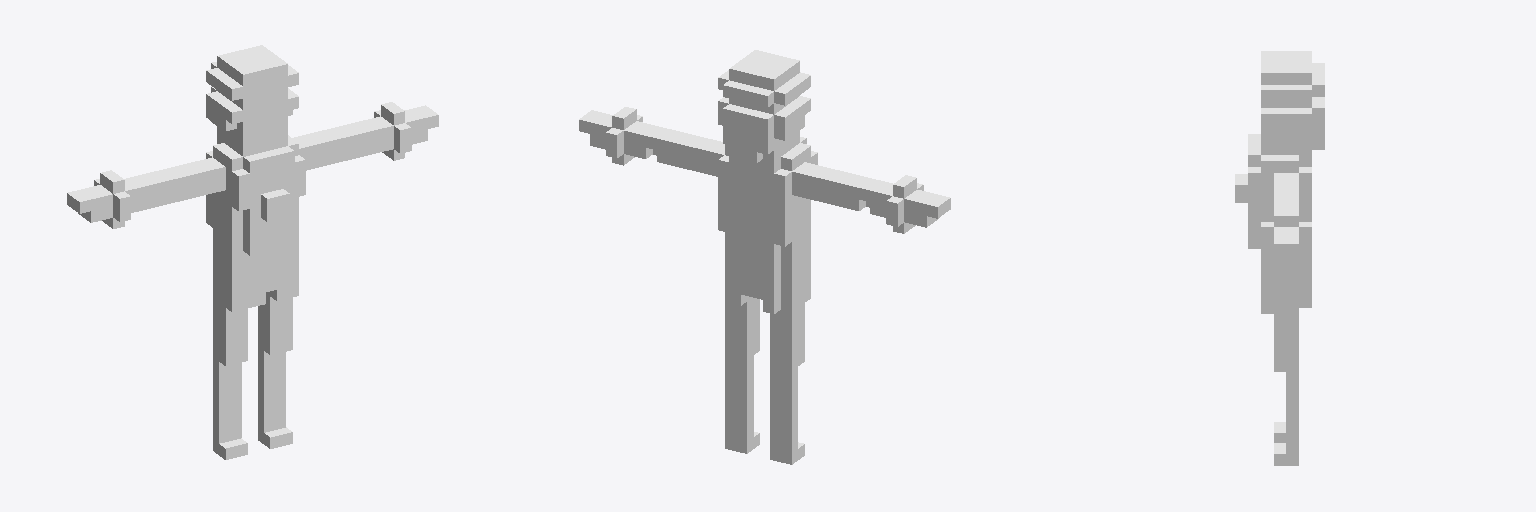
The model's file is Character10.obj.
The picture shows the model from 3 angles: view 1: azimuth 30°, elevation 25°; view 2: azimuth 150°, elevation 25°; view 3: azimuth 270°, elevation 25°; orthographic projection.
Parts seen in each view (by area): view 1: Character09_Mesh.009; view 2: Character09_Mesh.009; view 3: Character09_Mesh.009.
Part boxes in pixels (x1,y1,x2,y2): Character09_Mesh.009: (67,45,438,459); Character09_Mesh.009: (579,50,950,464); Character09_Mesh.009: (1235,51,1324,465).
Bounding box in the file's own units: 12.15 × 12.53 × 2.66.